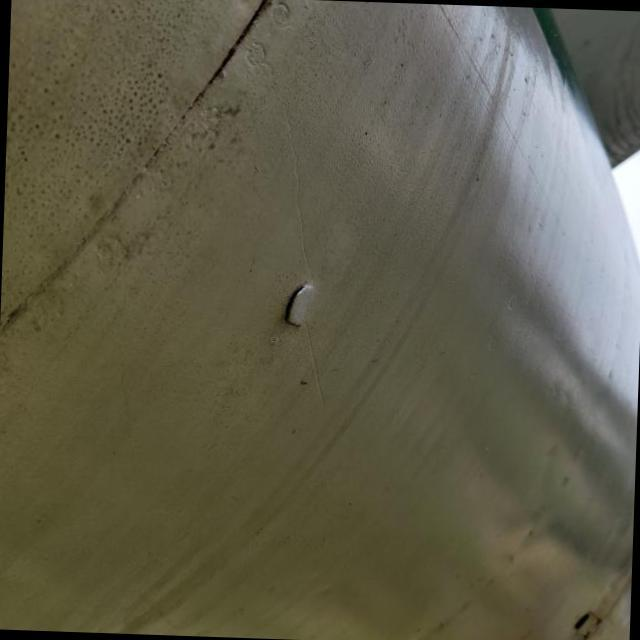Rupture: (268, 267, 336, 340)
